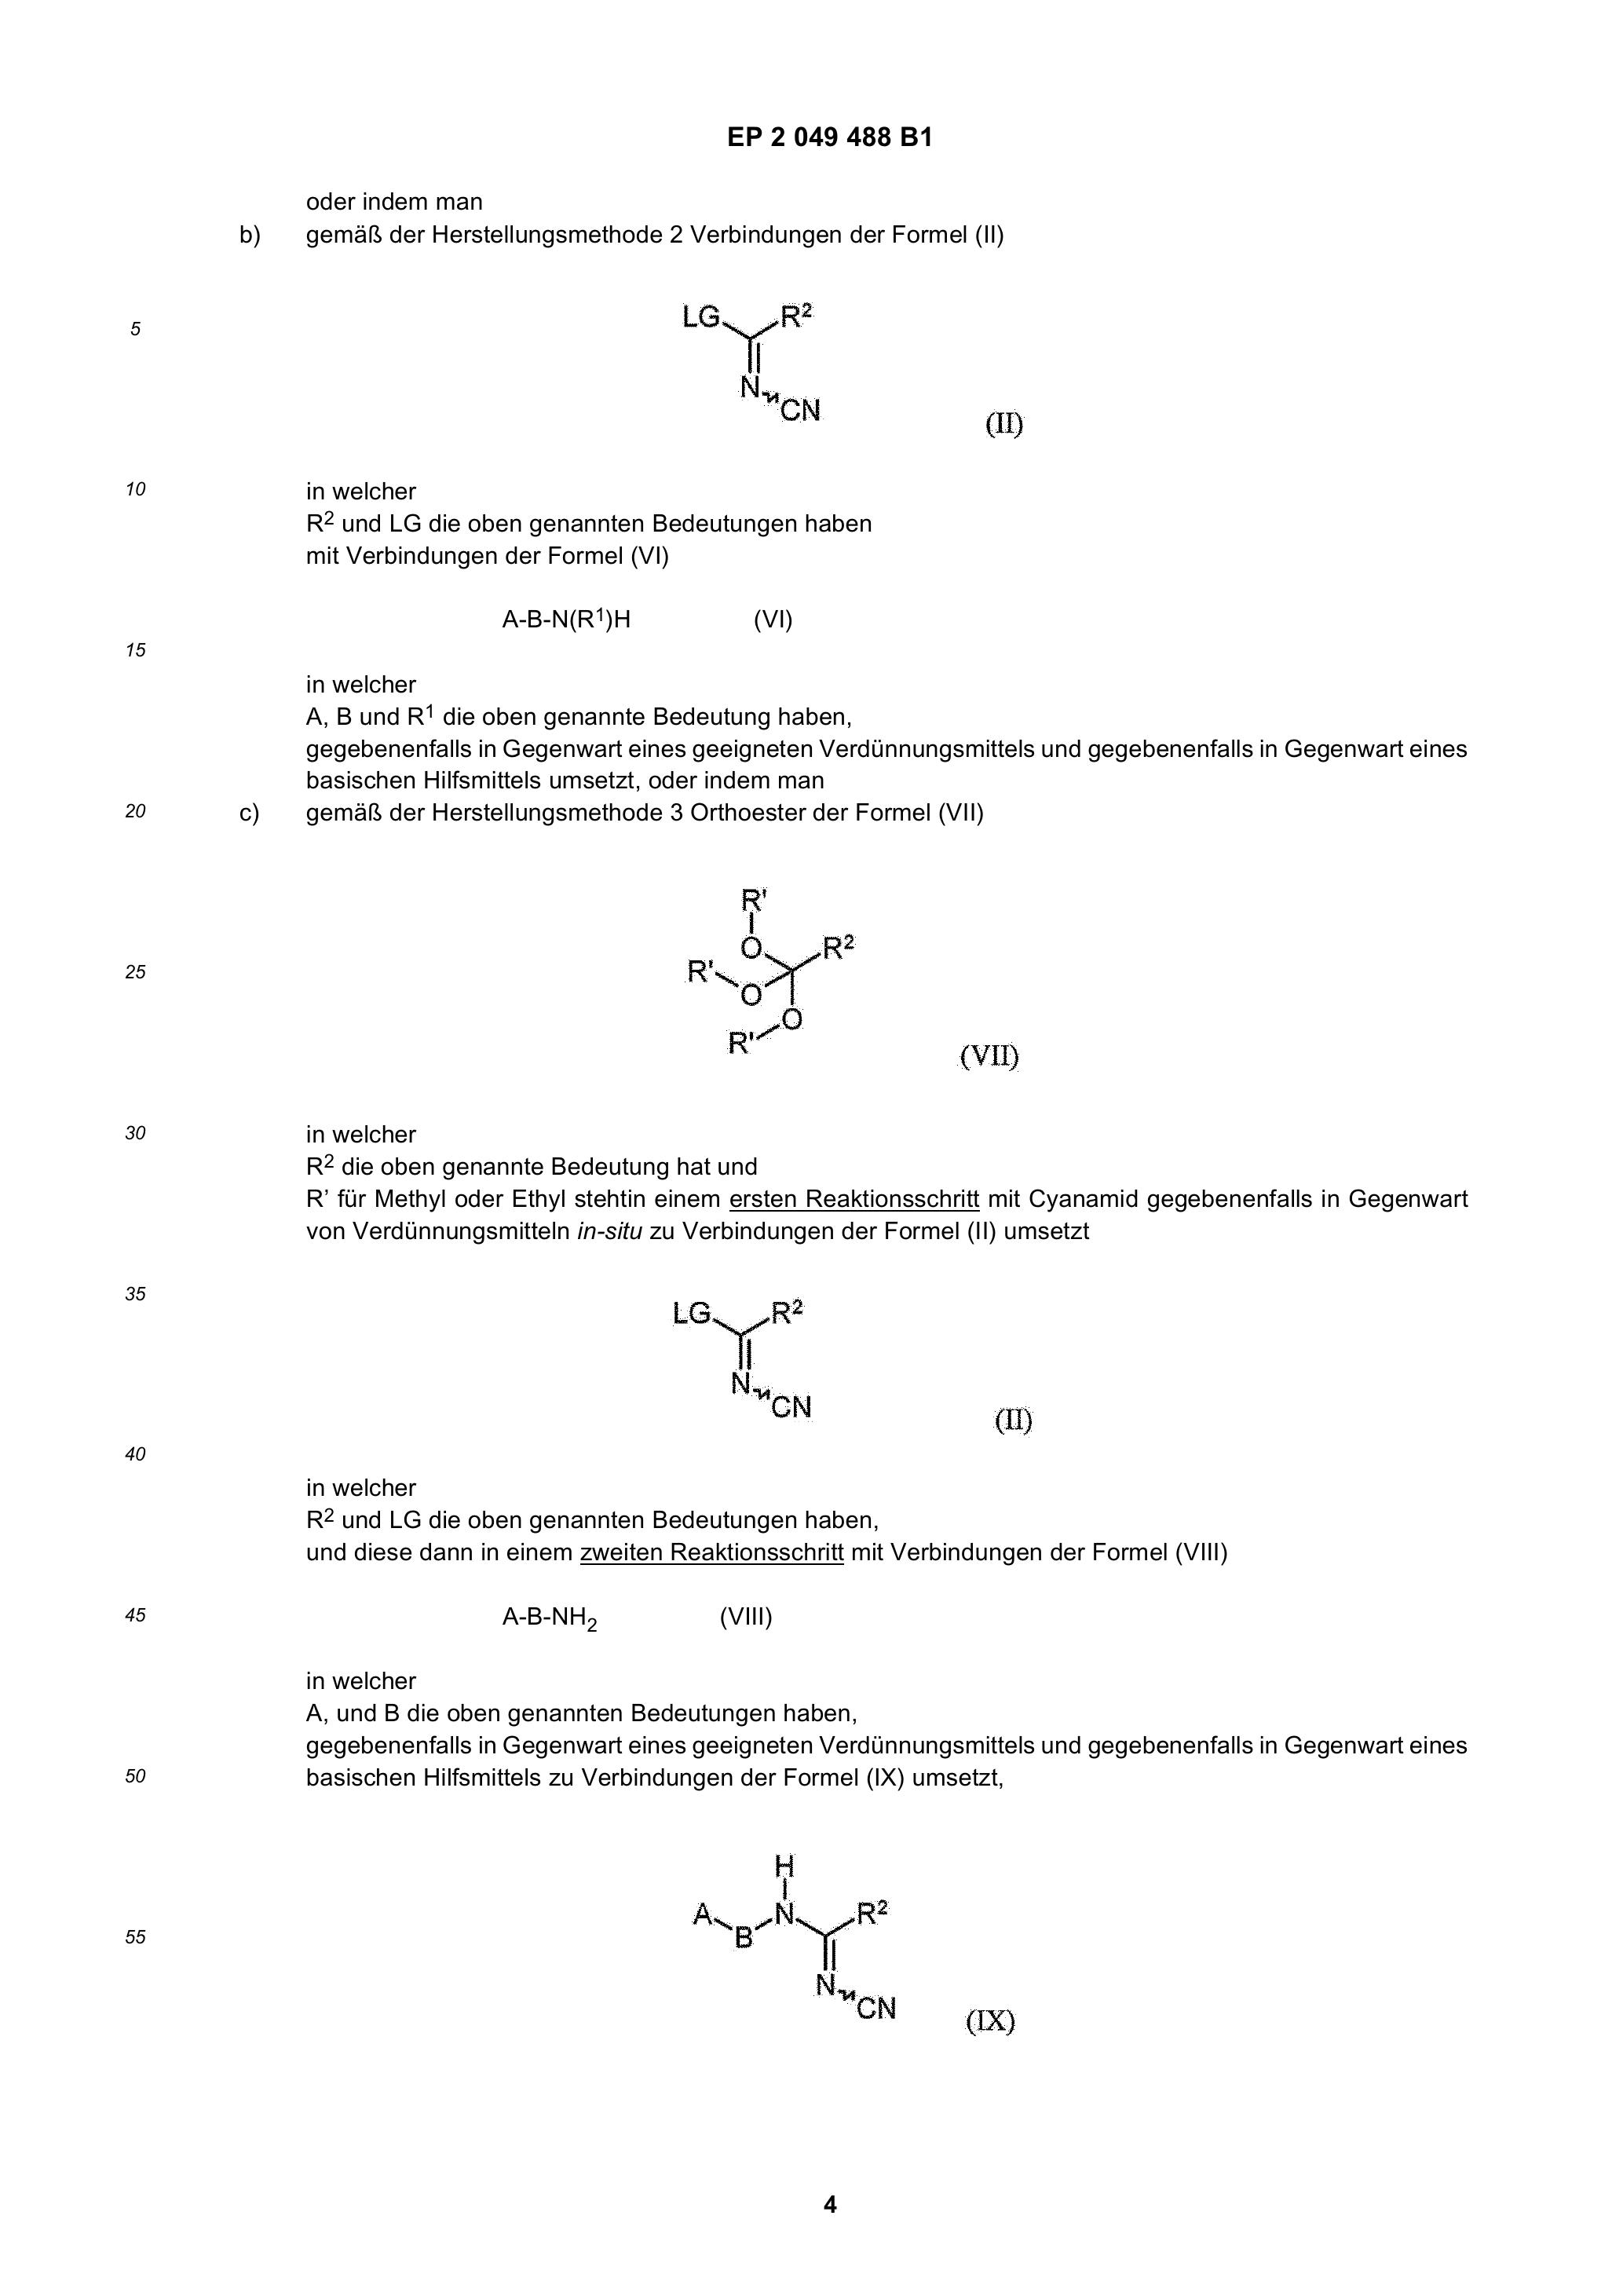markush-structures: (659, 1820, 933, 2048), (655, 868, 864, 1073), (655, 274, 868, 457), (655, 1282, 848, 1432)
